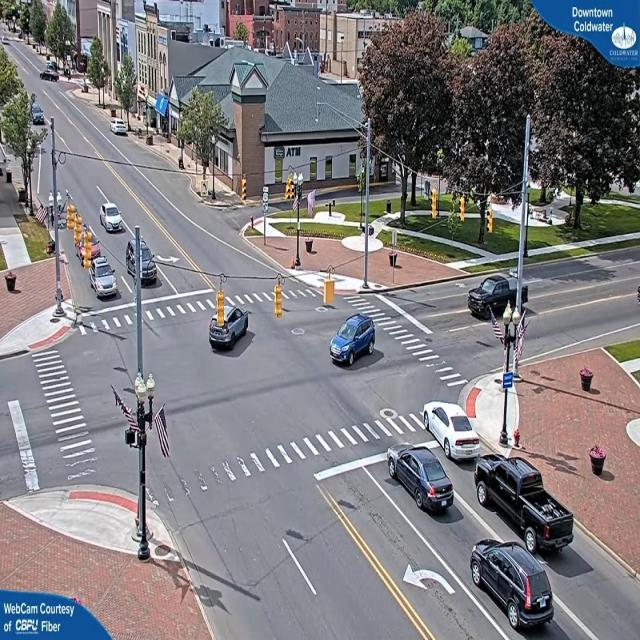car: (474, 454, 574, 558), (472, 539, 555, 634), (387, 443, 458, 515), (422, 402, 482, 463), (468, 276, 530, 321), (331, 312, 378, 368), (209, 305, 250, 352), (90, 259, 119, 300), (100, 204, 125, 234), (112, 119, 128, 136)
